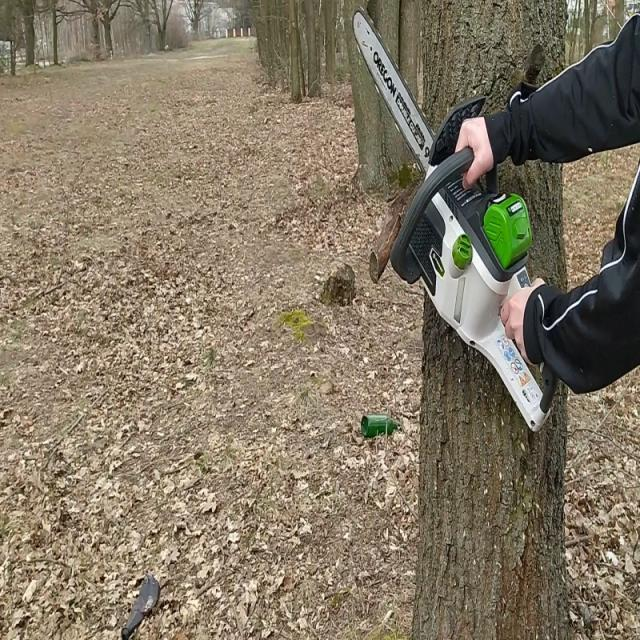Chainsaw: (349, 7, 562, 437)
